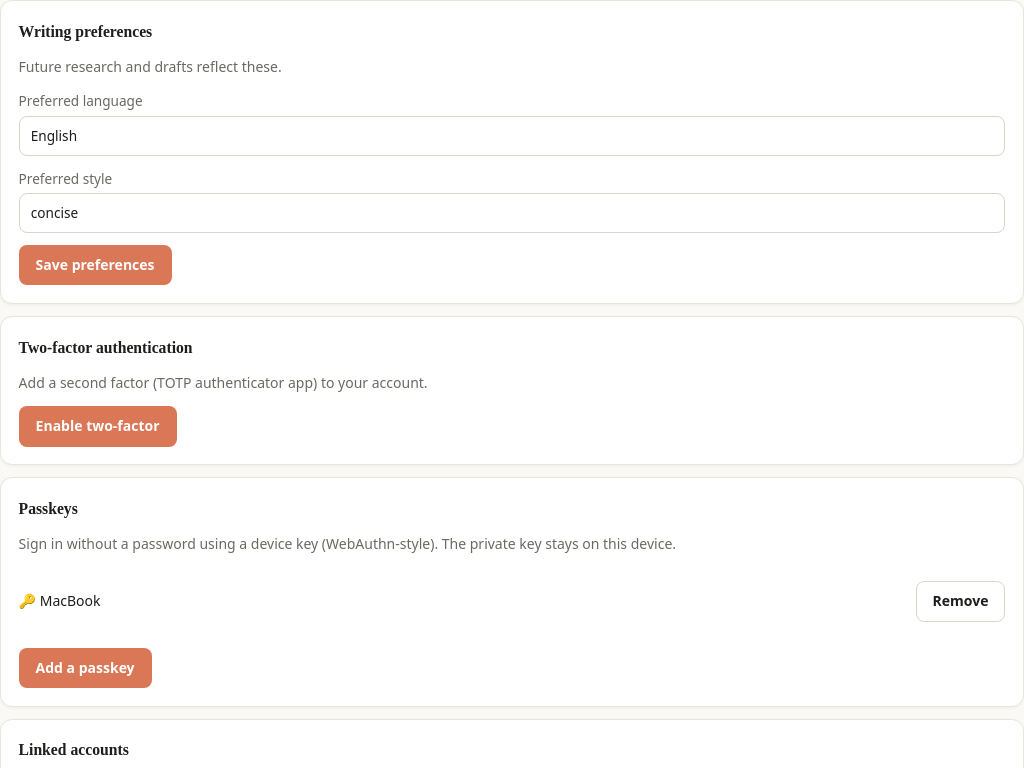
Test case: Settings page › loads existing preferences and saves changes
This screenshot has width=1024, height=768.
Check: the field with placeholder "e.g. English, Chinese" holds "English", box [19,116,1005,156]
Step 1. Click the button "Save preferences" → (95, 265), box [19,245,172,286]
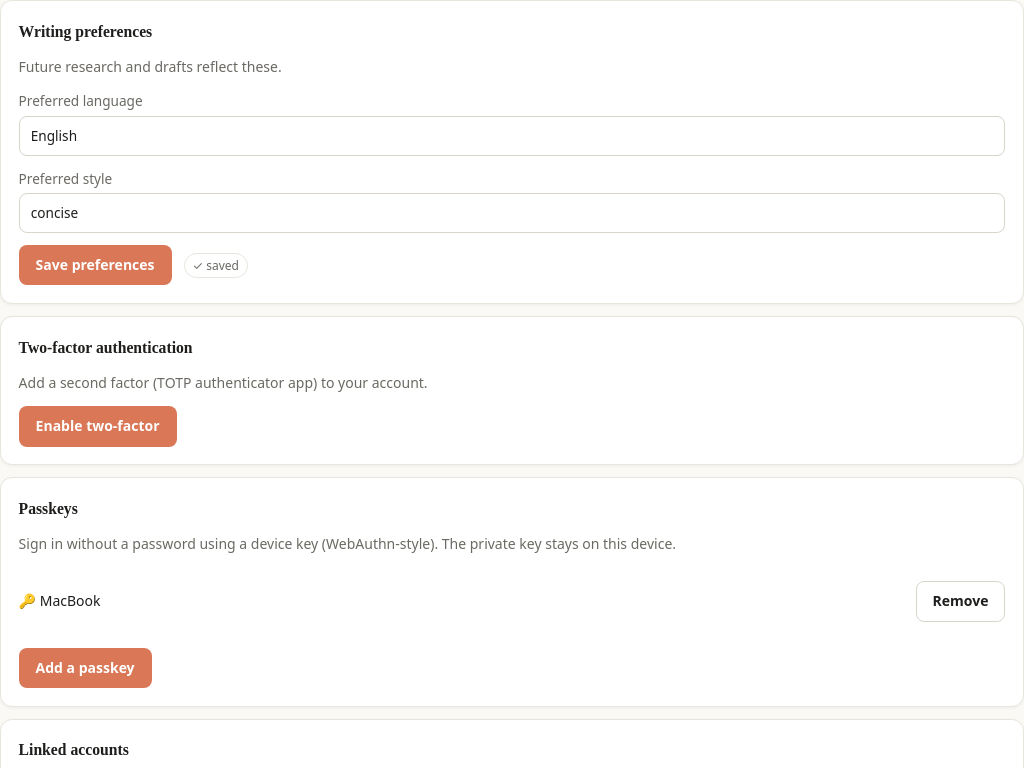
Check: the text "✓ saved" is shown, box [184,253,248,278]
